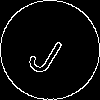J: (25, 25, 71, 78)
